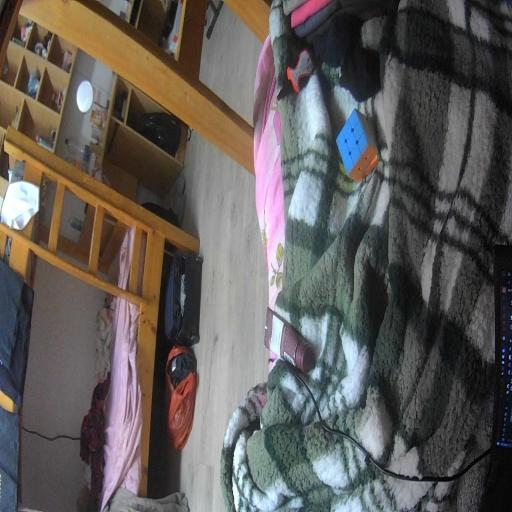Hand Cream: (263, 306, 315, 373)
Rubiks Cube: (334, 106, 380, 186)
Super Glue: (277, 45, 315, 110)
